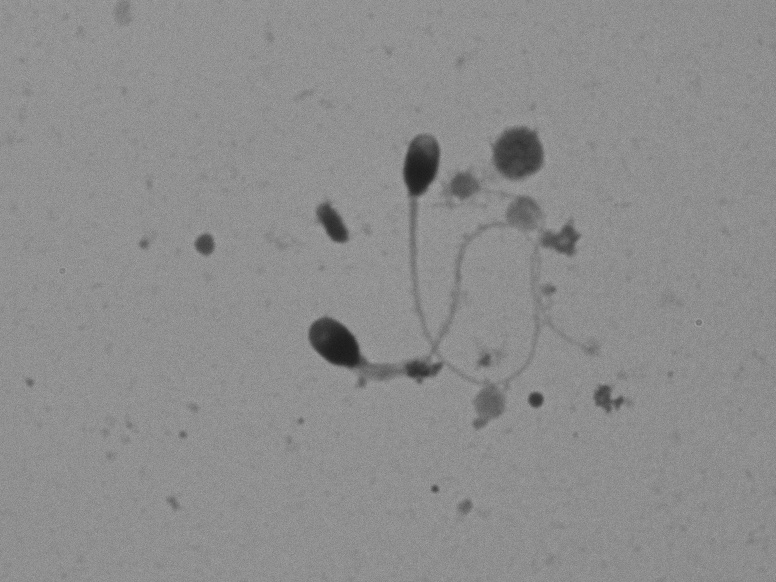Abnormal: (286, 214, 561, 394)
Normal: (387, 123, 614, 404)
